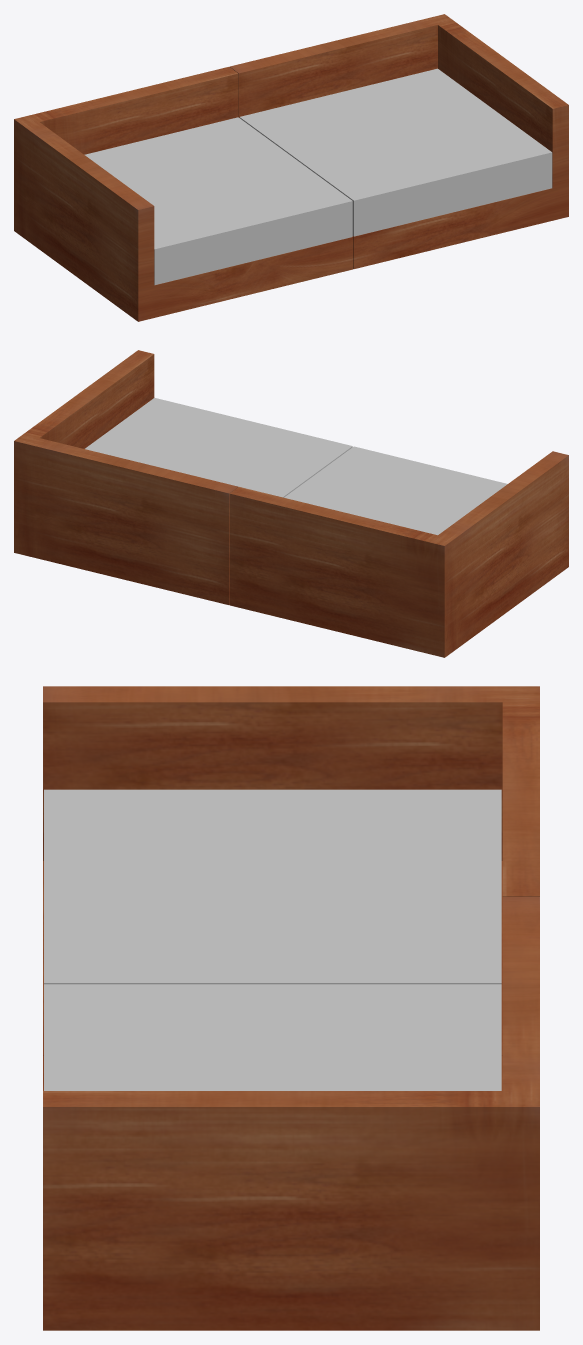
File: substance _file.gltf
The picture shows the model from 3 angles, top to bottom: view 1: azimuth 30°, elevation 25°; view 2: azimuth 150°, elevation 25°; view 3: azimuth 270°, elevation 25°; orthographic projection. The views are drawn at different scales.
Parts seen in each view (by area): view 1: sofa_Low_Poly (×2); view 2: sofa_Low_Poly (×2); view 3: sofa_Low_Poly (×2).
Part boxes in pixels (x1=…): sofa_Low_Poly (×2): x1=14, y1=14, x2=568, y2=321; sofa_Low_Poly (×2): x1=14, y1=350, x2=568, y2=657; sofa_Low_Poly (×2): x1=43, y1=686, x2=539, y2=1330.
Size of the model in its own units: 21.3 by 5.28 by 10.64.
